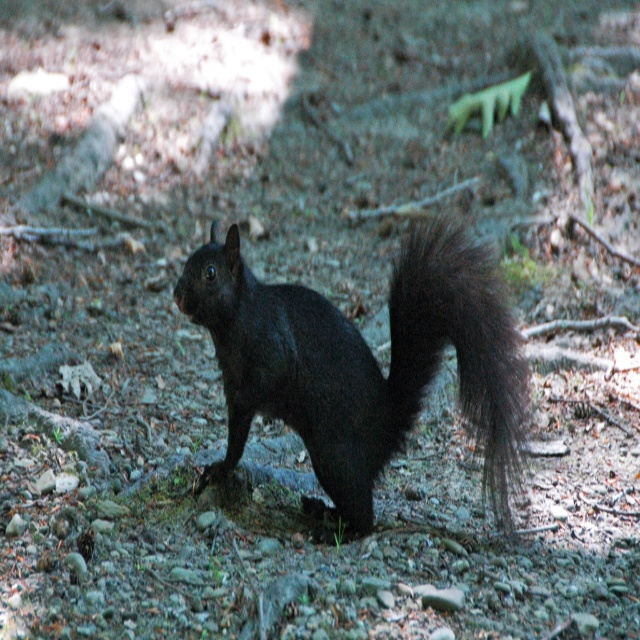Squirrel: (172, 210, 534, 546)
